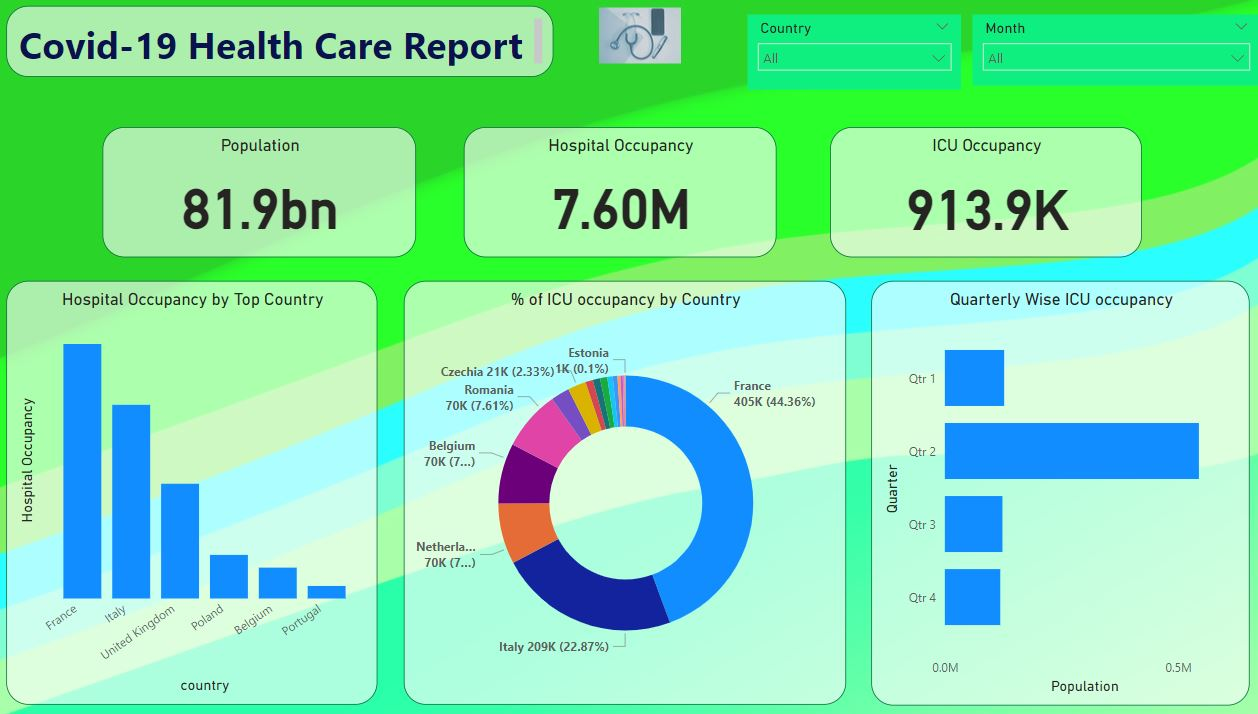

Layout of this report page (visuals, bound fields, positions):
{"tool":"powerbi","page":{"name":"Healt_Care","canvas":[1280,720],"ordinal":0},"visuals":[{"type":"columnChart","title":"Hospital Occupancy by Top Country","fields":{"Y":["Sum(hospitalAdmission_dailydata.hospital occupancy_count)"],"Category":["hospitalAdmission_dailydata.country"]},"box":[26.2,283.8,371.2,423.8],"z":0},{"type":"card","title":"Population","fields":{"Values":["Sum(hospitalAdmission_dailydata.population)"]},"box":[122.5,130,313.8,130],"z":1000},{"type":"donutChart","title":"% of ICU occupancy by Country","fields":{"Category":["hospitalAdmission_dailydata.country"],"Y":["Sum(hospitalAdmission_dailydata.ICU_occupancy_count)"]},"box":[423.8,283.8,442.5,423.8],"z":2000},{"type":"slicer","fields":{"Values":["hospitalAdmission_dailydata.country"]},"box":[767.8,17.8,213.9,75.4],"z":3000},{"type":"barChart","title":"Quarterly Wise ICU occupancy","fields":{"Y":["Sum(hospitalAdmission_dailydata.ICU_occupancy_count)"],"Category":["hospitalAdmission_dailydata.reported_date.Variation.Date Hierarchy.Quarter"]},"box":[891.2,283.8,378.8,425],"z":4000},{"type":"card","title":"ICU Occupancy","fields":{"Values":["Sum(hospitalAdmission_dailydata.ICU_occupancy_count)"]},"box":[850.3,130.3,312.4,130.3],"z":5000},{"type":"card","title":"Hospital Occupancy","fields":{"Values":["Sum(hospitalAdmission_dailydata.hospital occupancy_count)"]},"box":[483.8,130,312.5,130],"z":6000},{"type":"slicer","fields":{"Values":["hospitalAdmission_dailydata.reported_date.Variation.Date Hierarchy.Month"]},"box":[992.6,17.8,287.9,71.3],"z":7000},{"type":"textbox","box":[26.2,8.8,547.5,71.2],"z":8000}]}

Visuals, with their boxes in screenshot pixels (x1, y1, x2, y2), scaled from the page's 1280x720 canvas onto the 1258x714 screenshot:
"Hospital Occupancy by Top Country" columnChart: x1=26 y1=281 x2=391 y2=702
"Population" card: x1=120 y1=129 x2=429 y2=258
"% of ICU occupancy by Country" donutChart: x1=417 y1=281 x2=851 y2=702
slicer - hospitalAdmission_dailydata.country: x1=755 y1=18 x2=965 y2=92
"Quarterly Wise ICU occupancy" barChart: x1=876 y1=281 x2=1248 y2=703
"ICU Occupancy" card: x1=836 y1=129 x2=1143 y2=258
"Hospital Occupancy" card: x1=475 y1=129 x2=783 y2=258
slicer - hospitalAdmission_dailydata.reported_date.Variation.Date Hierarchy.Month: x1=976 y1=18 x2=1257 y2=88
textbox: x1=26 y1=9 x2=564 y2=79
